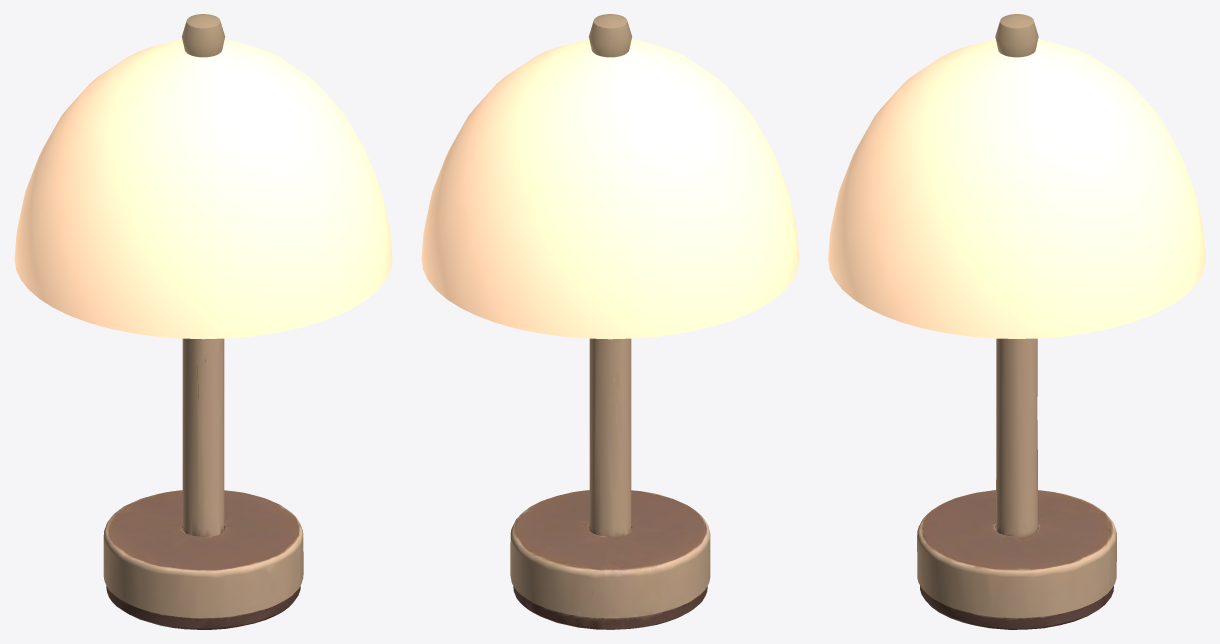
The model's file is lamp.glb.
3 renders of one model, left to right at view 1: azimuth 30°, elevation 25°; view 2: azimuth 150°, elevation 25°; view 3: azimuth 270°, elevation 25°, orthographic.
Parts seen in each view (by area): view 1: shade, base; view 2: shade, base; view 3: shade, base.
Part boxes in pixels (<box>): shade: <box>14,14,392,339</box>; base: <box>103,338,303,629</box>; shade: <box>421,14,799,339</box>; base: <box>510,338,710,629</box>; shade: <box>828,14,1205,338</box>; base: <box>917,338,1116,629</box>.
Bounding box in the file's own units: 0.2 × 0.335 × 0.2.
3 materials, 3 textured.
